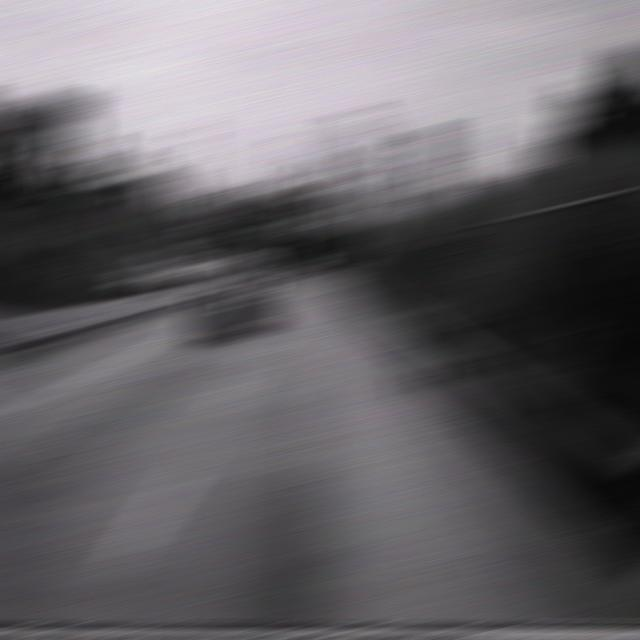speedLimit25: (11, 94, 68, 170), (402, 127, 449, 184)
